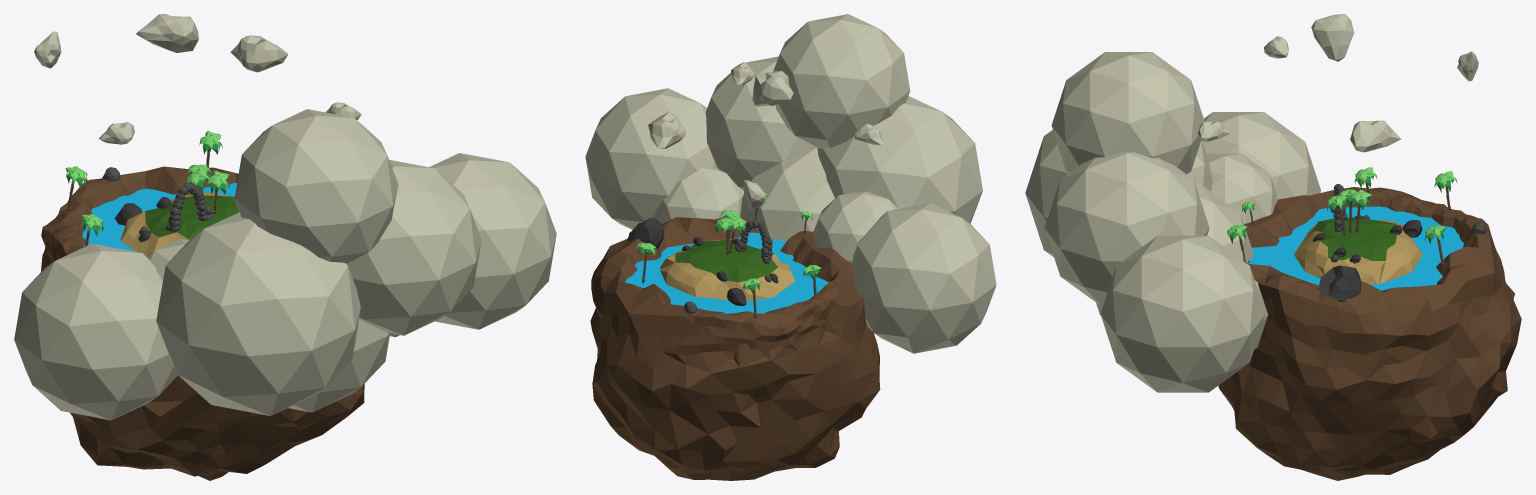
The model's file is Island.glb.
3 views of the same model, side by side, from view 1: azimuth 30°, elevation 25°; view 2: azimuth 150°, elevation 25°; view 3: azimuth 270°, elevation 25° (orthographic). The views are drawn at different scales.
Visible parts, largest first — view 1: Icosphere.049, Icosphere.001, Icosphere.050, Icosphere.052, Icosphere.048, Icosphere.051, Icosphere, Icosphere.046, Icosphere.047, Icosphere.004, Icosphere.005, Icosphere.002; view 2: Icosphere.001, Icosphere.050, Icosphere.052, Icosphere.049, Icosphere.051, Icosphere.048, Icosphere, Icosphere.005, Icosphere.045, Icosphere.046, Icosphere.047, Icosphere.042 (+1 smaller); view 3: Icosphere.001, Icosphere.051, Icosphere.048, Icosphere.052, Icosphere.050, Icosphere.005, Icosphere.049, Icosphere, Icosphere.046, Icosphere.047, Icosphere.042.
Part boxes in pixels (x1,y1,x2,y2): Icosphere.049: [156, 212, 360, 415]; Icosphere.001: [41, 166, 364, 480]; Icosphere.050: [14, 243, 177, 420]; Icosphere.052: [234, 109, 398, 263]; Icosphere.048: [347, 160, 481, 335]; Icosphere.051: [429, 153, 556, 329]; Icosphere: [288, 319, 389, 412]; Icosphere.046: [136, 14, 198, 52]; Icosphere.047: [230, 35, 288, 72]; Icosphere.004: [34, 31, 61, 68]; Icosphere.005: [147, 239, 188, 281]; Icosphere.002: [99, 122, 134, 144]; Icosphere.001: [590, 217, 880, 480]; Icosphere.050: [852, 203, 996, 353]; Icosphere.052: [773, 14, 910, 148]; Icosphere.049: [817, 96, 982, 223]; Icosphere.051: [585, 88, 716, 229]; Icosphere.048: [705, 56, 815, 190]; Icosphere: [740, 147, 834, 241]; Icosphere.005: [813, 191, 898, 263]; Icosphere.045: [654, 167, 743, 223]; Icosphere.046: [752, 71, 793, 106]; Icosphere.047: [648, 111, 685, 148]; Icosphere.042: [627, 217, 663, 248]; Icosphere.001: [1218, 187, 1521, 480]; Icosphere.051: [1100, 235, 1265, 392]; Icosphere.048: [1044, 152, 1209, 306]; Icosphere.052: [1051, 52, 1204, 173]; Icosphere.050: [1202, 112, 1320, 199]; Icosphere.005: [1206, 153, 1278, 223]; Icosphere.049: [1025, 130, 1212, 257]; Icosphere: [1096, 184, 1252, 315]; Icosphere.046: [1311, 14, 1354, 61]; Icosphere.047: [1350, 120, 1401, 152]; Icosphere.042: [1318, 265, 1361, 301].
Size of the model in its own units: 378 by 347 by 364.
